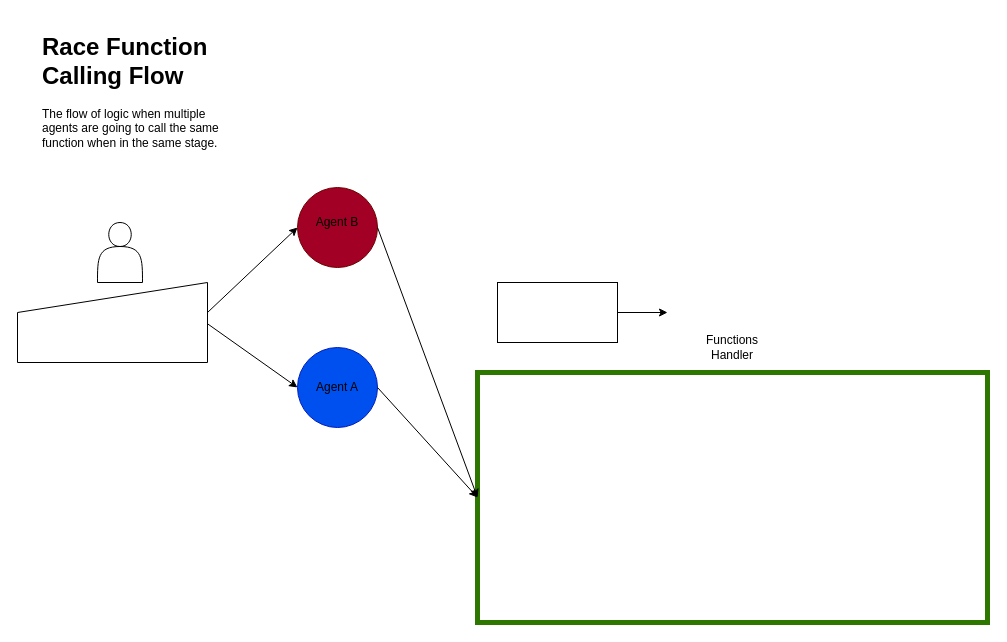
The diagram is 1007 pixels wide and 642 high, and some of its shapes have lost their labels. The centre of each missing label's shape, as x and y in pixels:
"Can you check the Weather for New York?": (112,322)
Tool: Weather, New York: (557,312)
